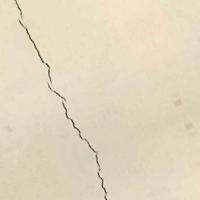crack: (8, 0, 121, 199)
